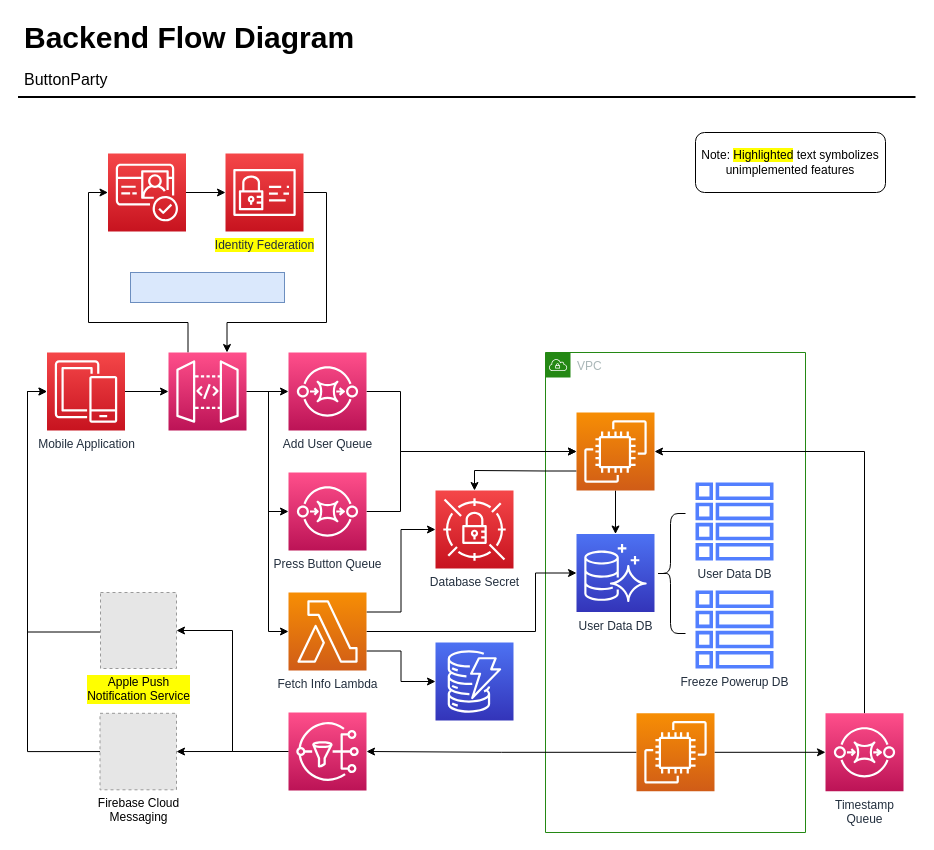
This 934x850 diagram has some shape labels left out. Grey dashed boxes stand in for pictures. The shapes that lost their labels are listed below. From the top down, each one's box as (x1, y1, x2, y2) in pixels, then its label:
(107, 152, 186, 232): User Authentication
(130, 272, 284, 302): Authentication for API calls
(168, 352, 246, 430): API Gateway
(576, 412, 654, 490): Incoming Traffic Handler
(434, 642, 514, 720): Group DB
(288, 712, 366, 790): Platform Application SNS
(636, 712, 714, 791): Outgoing Traffic Handler
